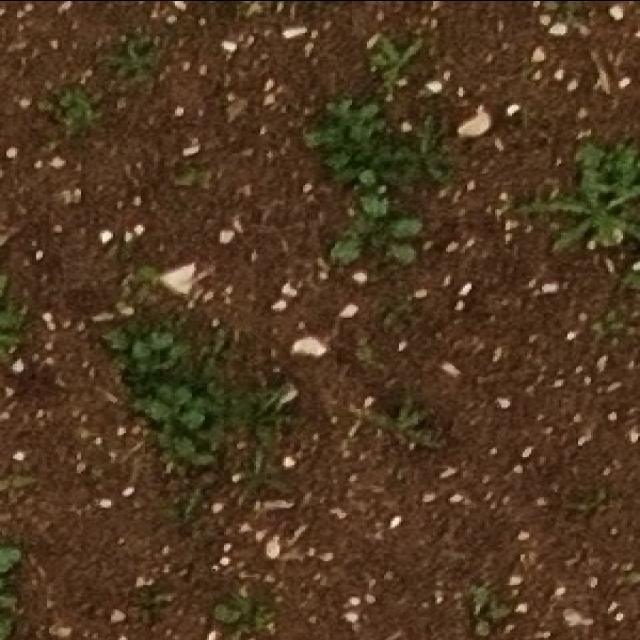cirse: (502, 164, 615, 252), (527, 161, 640, 249), (550, 160, 640, 250), (379, 111, 463, 182), (345, 378, 436, 442), (355, 386, 445, 450), (367, 412, 453, 473), (397, 115, 476, 181), (402, 111, 480, 177), (235, 439, 312, 502), (231, 428, 307, 488), (215, 433, 291, 493), (357, 27, 430, 85), (370, 34, 444, 89), (350, 28, 419, 83), (106, 32, 169, 74), (111, 33, 176, 73), (111, 34, 172, 73), (59, 82, 110, 121), (58, 91, 108, 129), (61, 83, 109, 122)
